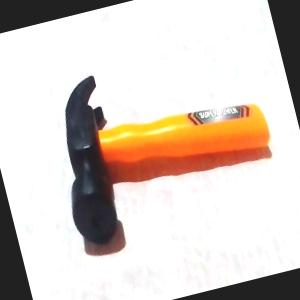martelo: (39, 34, 287, 250)
